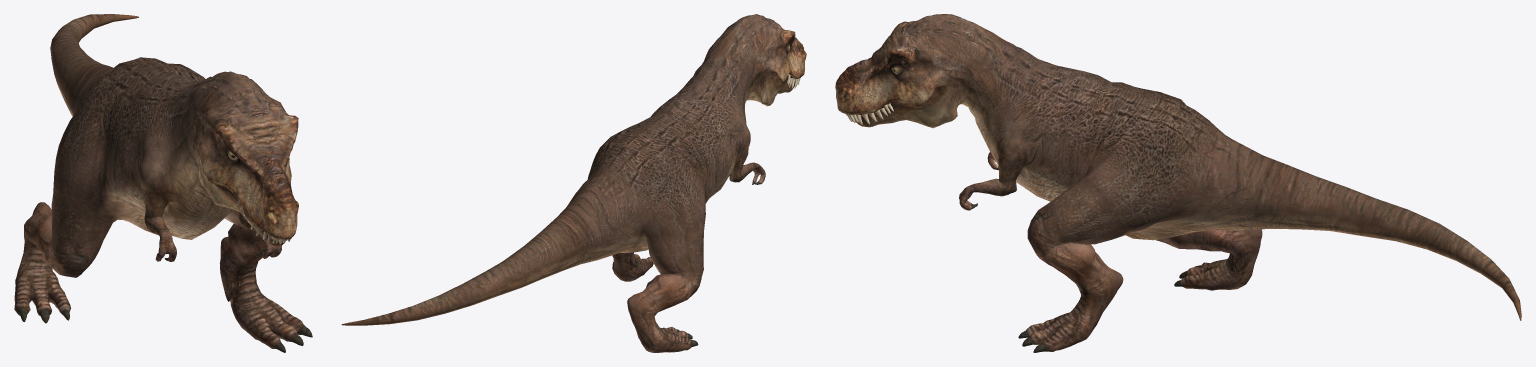
The model's file is dino.gltf.
3 views of the same model, side by side, from view 1: azimuth 30°, elevation 25°; view 2: azimuth 150°, elevation 25°; view 3: azimuth 270°, elevation 25° (orthographic). The views are drawn at different scales.
Parts seen in each view (by area): view 1: node_id9; view 2: node_id9; view 3: node_id9.
Boxes of the visible parts, x1,y1,x2,y2 form: node_id9: (14, 14, 312, 352); node_id9: (341, 14, 806, 352); node_id9: (835, 14, 1521, 352).
Bounding box in the file's own units: 0.4887 × 0.5096 × 1.09.
Materials: 2 (2 with a texture image).
